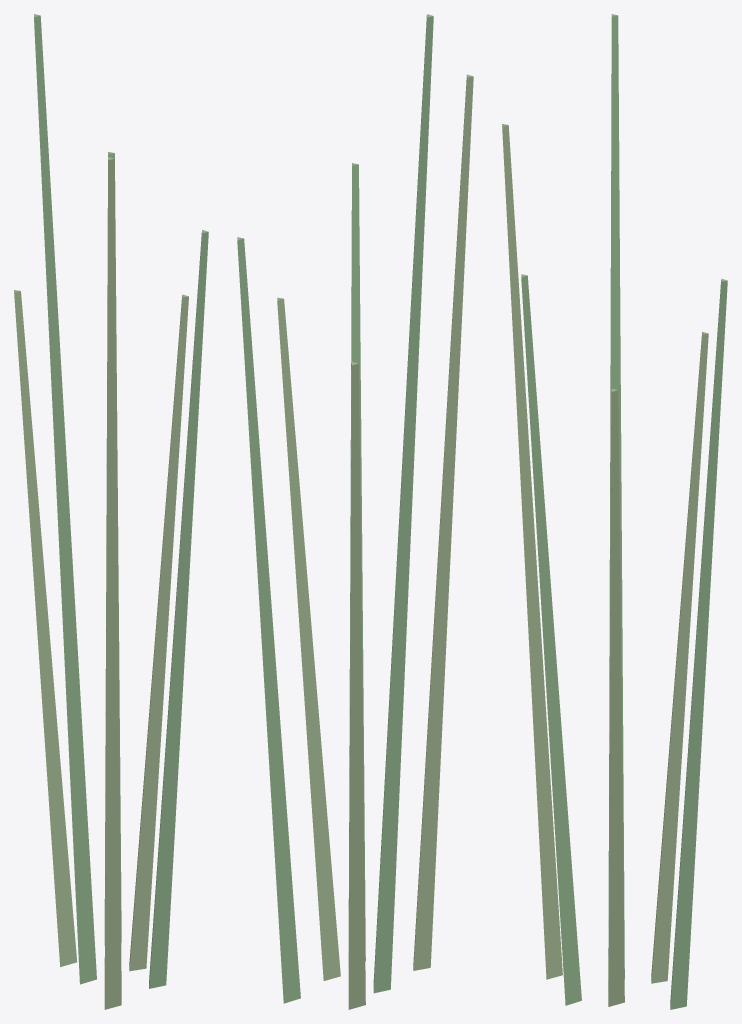
Rendered from reed_v09.glb.
3 renders of one model, left to right at view 1: azimuth 30°, elevation 25°; view 2: azimuth 150°, elevation 25°; view 3: azimuth 270°, elevation 25°, orthographic. The views are drawn at different scales.
Parts seen in each view (by area): view 1: lod0; view 2: lod0; view 3: lod0.
Boxes of the visible parts, x1,y1,x2,y2 form: lod0: [14, 14, 208, 1009]; lod0: [237, 14, 473, 1009]; lod0: [502, 14, 727, 1009].
Size of what is drawn, in the model's own units: 0.3138 by 1.89 by 0.4104.
